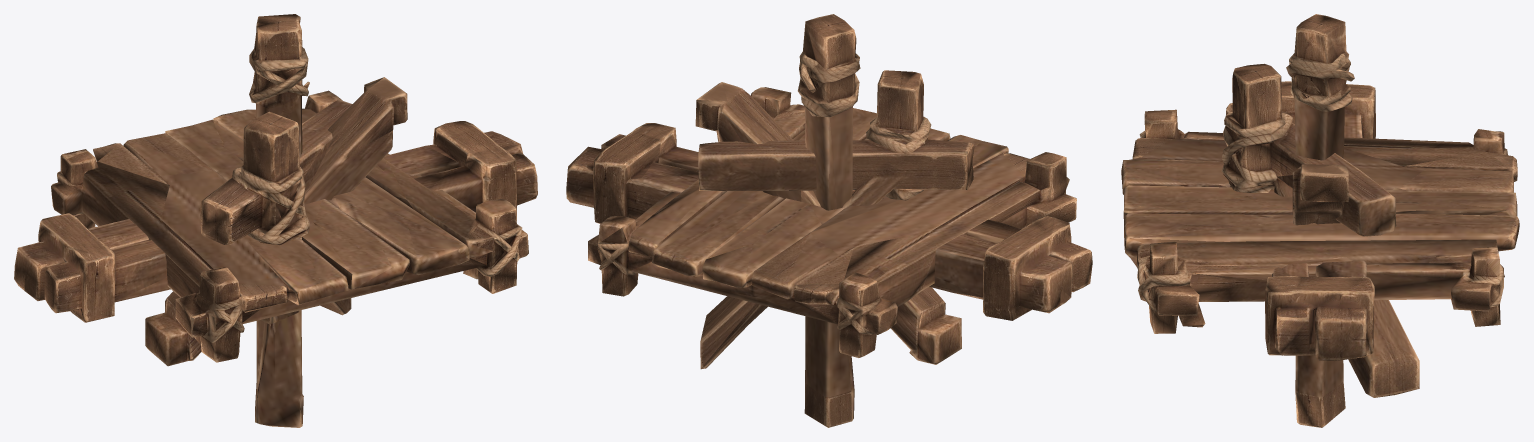
Rendered from marble-timber.glb.
3 views of the same model, side by side, from view 1: azimuth 30°, elevation 25°; view 2: azimuth 150°, elevation 25°; view 3: azimuth 270°, elevation 25° (orthographic).
Visible parts, largest first — view 1: deck, beam, cross, post, brace; view 2: deck, beam, cross, post, brace; view 3: deck, cross, beam, post, brace.
Boxes of the visible parts, x1=… form: deck: x1=51, y1=90, x2=528, y2=362; beam: x1=14, y1=121, x2=537, y2=322; cross: x1=200, y1=99, x2=352, y2=324; post: x1=249, y1=14, x2=309, y2=427; brace: x1=145, y1=77, x2=407, y2=366; deck: x1=588, y1=87, x2=1076, y2=357; beam: x1=566, y1=123, x2=1092, y2=320; cross: x1=698, y1=70, x2=974, y2=369; post: x1=797, y1=14, x2=860, y2=427; brace: x1=695, y1=82, x2=961, y2=364; deck: x1=1121, y1=109, x2=1519, y2=333; cross: x1=1221, y1=63, x2=1419, y2=397; beam: x1=1265, y1=81, x2=1375, y2=360; post: x1=1286, y1=14, x2=1354, y2=427; brace: x1=1292, y1=164, x2=1348, y2=225.
Size of the model in its own units: 1.65 by 1.29 by 1.18.
1 material, 1 textured.
